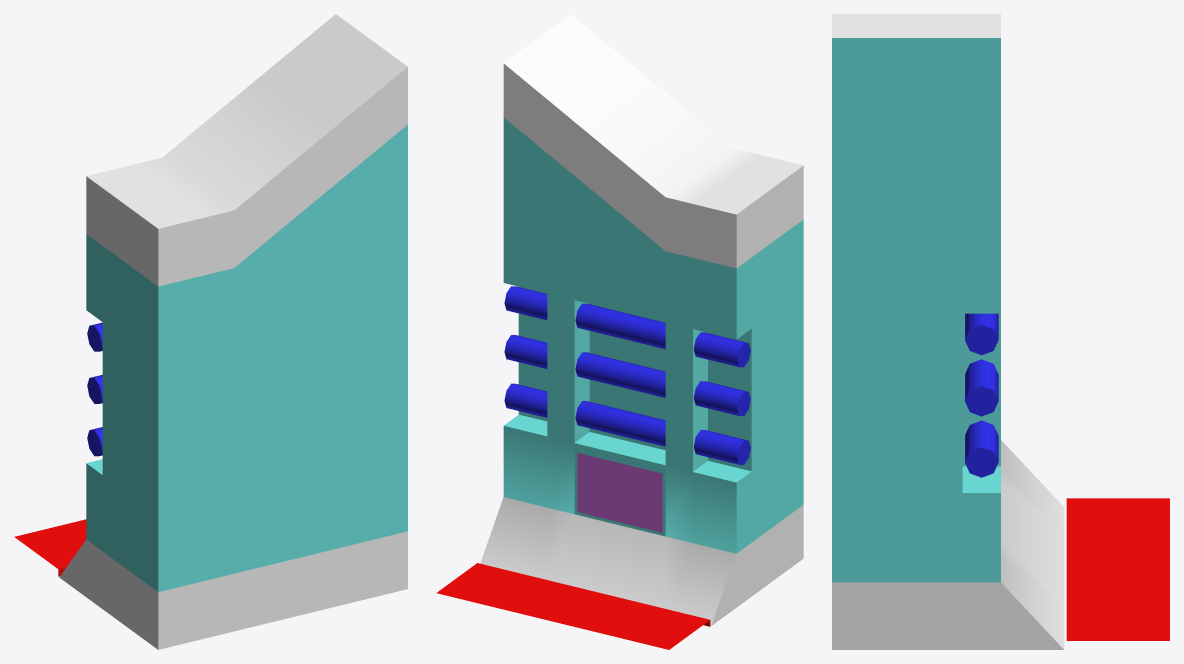
Rendered from Wall-BaseToLow.fbx.
3 renders of one model, left to right at view 1: azimuth 30°, elevation 25°; view 2: azimuth 150°, elevation 25°; view 3: azimuth 270°, elevation 25°, orthographic. The views are drawn at different scales.
Visible parts, largest first — view 1: BaseToLow; view 2: BaseToLow; view 3: BaseToLow.
Boxes of the visible parts, <box> form: BaseToLow: <box>14,14,407,649</box>; BaseToLow: <box>436,14,803,649</box>; BaseToLow: <box>832,14,1169,649</box>.
Size of the model in its own units: 78.74 by 157 by 78.79.
